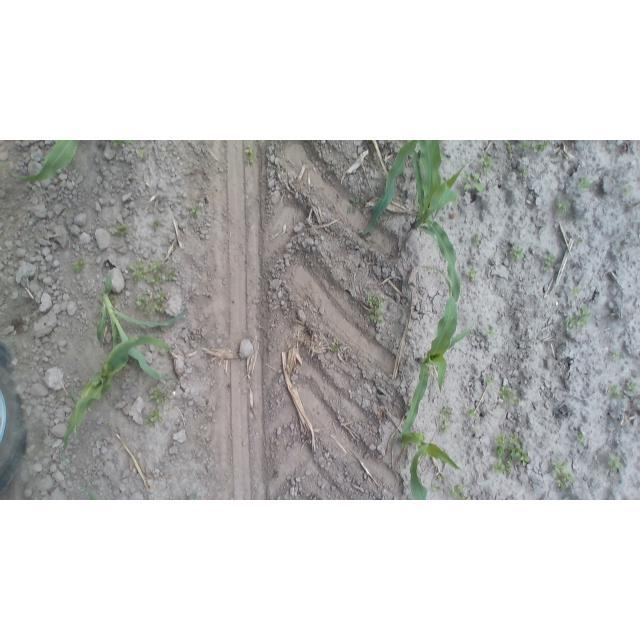Maize: (59, 334, 179, 456), (394, 260, 471, 439), (89, 267, 188, 379), (404, 143, 465, 300), (360, 140, 428, 237), (397, 425, 464, 499), (0, 141, 80, 189)
Weeds: (490, 431, 531, 477), (128, 261, 166, 285), (550, 458, 576, 490), (565, 304, 592, 332), (366, 294, 388, 327), (463, 172, 486, 194), (437, 409, 455, 436), (517, 140, 550, 154), (497, 386, 519, 407), (540, 251, 558, 273), (135, 292, 151, 316), (606, 454, 625, 474), (149, 387, 169, 406), (144, 408, 164, 427), (152, 291, 166, 314), (448, 484, 469, 499), (510, 244, 527, 262), (479, 154, 495, 173), (606, 382, 624, 398), (553, 197, 568, 216), (347, 196, 362, 215), (114, 221, 131, 237), (244, 146, 257, 166), (578, 176, 593, 192), (107, 140, 135, 148), (74, 258, 87, 274), (576, 430, 589, 446), (166, 266, 178, 283), (189, 204, 203, 218), (150, 219, 165, 232), (625, 379, 638, 394), (484, 326, 497, 341), (465, 266, 478, 280), (472, 233, 484, 248), (466, 407, 479, 420), (620, 183, 632, 197), (611, 350, 625, 362), (482, 374, 494, 387), (570, 285, 582, 298), (135, 150, 149, 161), (503, 140, 515, 152), (518, 169, 531, 180), (332, 342, 343, 355), (435, 473, 447, 484), (186, 491, 201, 499), (576, 235, 585, 246), (431, 486, 442, 495), (301, 158, 309, 166)
